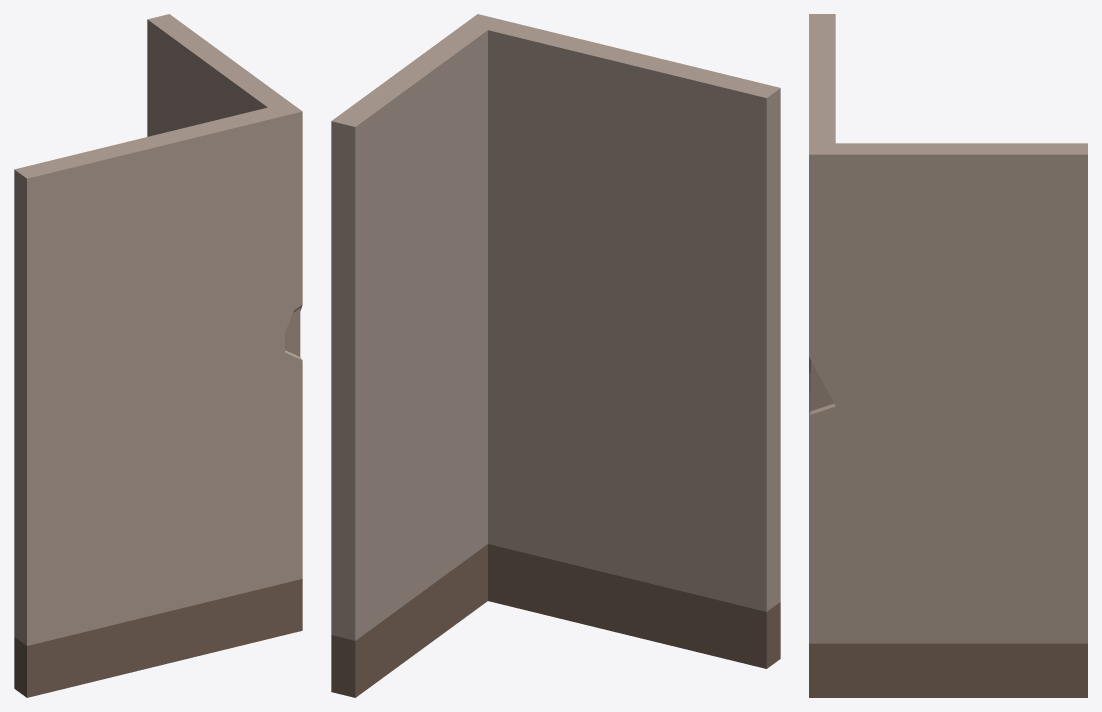
Rendered from Wall2_11.fbx.
3 renders of one model, left to right at view 1: azimuth 30°, elevation 25°; view 2: azimuth 150°, elevation 25°; view 3: azimuth 270°, elevation 25°, orthographic. The views are drawn at different scales.
Parts seen in each view (by area): view 1: Wall2_11; view 2: Wall2_11; view 3: Wall2_11.
Boxes of the visible parts, bbox=[...] form: Wall2_11: bbox=[14, 14, 302, 697]; Wall2_11: bbox=[331, 14, 780, 697]; Wall2_11: bbox=[809, 14, 1087, 697].
Size of the model in its own units: 500 by 900 by 418.
